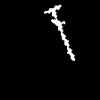double_crochet: (44, 5, 74, 60)
